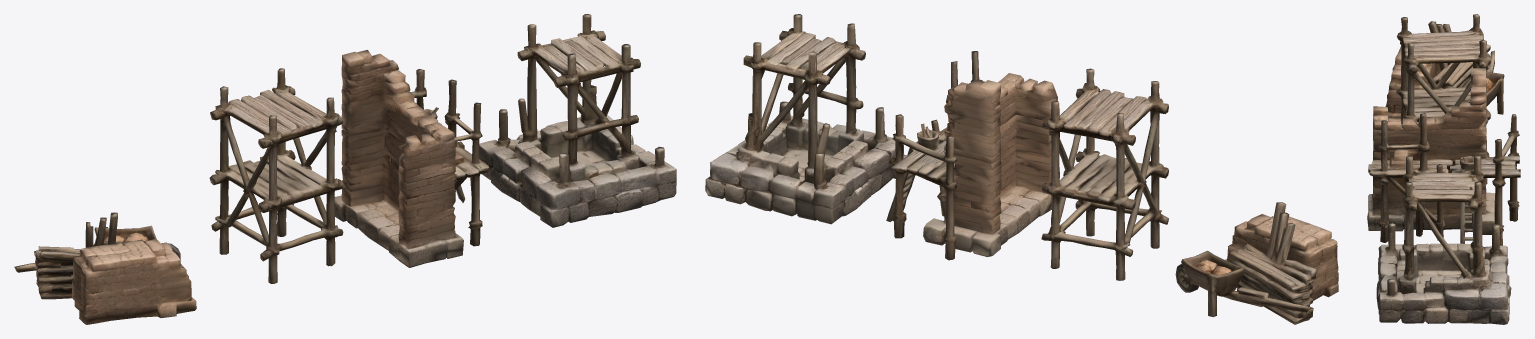
The model's file is construction_pack.glb.
The picture shows the model from 3 angles, left to right: view 1: azimuth 30°, elevation 25°; view 2: azimuth 150°, elevation 25°; view 3: azimuth 270°, elevation 25°; orthographic projection. The views are drawn at different scales.
Parts seen in each view (by area): view 1: wall_half, foundation_scaffold, scaffold, materials_pile; view 2: foundation_scaffold, wall_half, scaffold, materials_pile; view 3: foundation_scaffold, wall_half, scaffold, materials_pile.
Part boxes in pixels (bbox=[...]): wall_half: bbox=[334, 50, 489, 267]; foundation_scaffold: bbox=[479, 14, 676, 227]; scaffold: bbox=[209, 68, 343, 283]; materials_pile: bbox=[14, 212, 196, 324]; foundation_scaffold: bbox=[705, 14, 906, 224]; wall_half: bbox=[886, 51, 1057, 260]; scaffold: bbox=[1041, 68, 1168, 280]; materials_pile: bbox=[1175, 202, 1338, 324]; foundation_scaffold: bbox=[1376, 155, 1511, 324]; wall_half: bbox=[1367, 68, 1520, 245]; scaffold: bbox=[1397, 14, 1491, 184]; materials_pile: bbox=[1385, 21, 1504, 123].
Bounding box in the file's own units: 0.9763 × 0.259 × 0.2519.
1 material, 1 textured.
